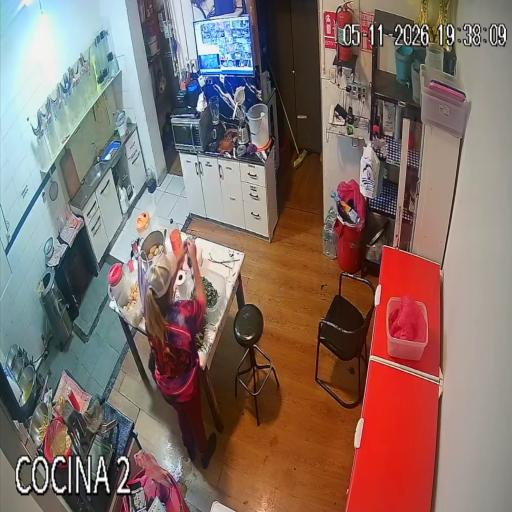Envase Ketchup: (66, 389, 79, 411)
Envase Llajua: (59, 395, 66, 406)
Jarra1: (108, 263, 125, 300)
Jarra2: (136, 211, 154, 244)
Microondas: (171, 110, 212, 151)
Persona2: (144, 241, 216, 468)
Tapa de olla: (43, 237, 54, 262)
Taper2: (207, 272, 226, 324)
Taper4: (116, 270, 149, 326)
olla: (139, 230, 166, 277)
